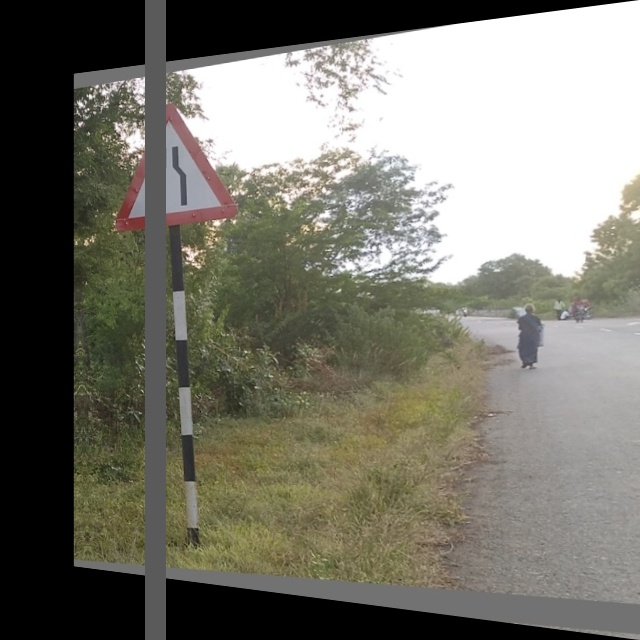Narrow_Road_Ahead: (110, 88, 241, 230)
